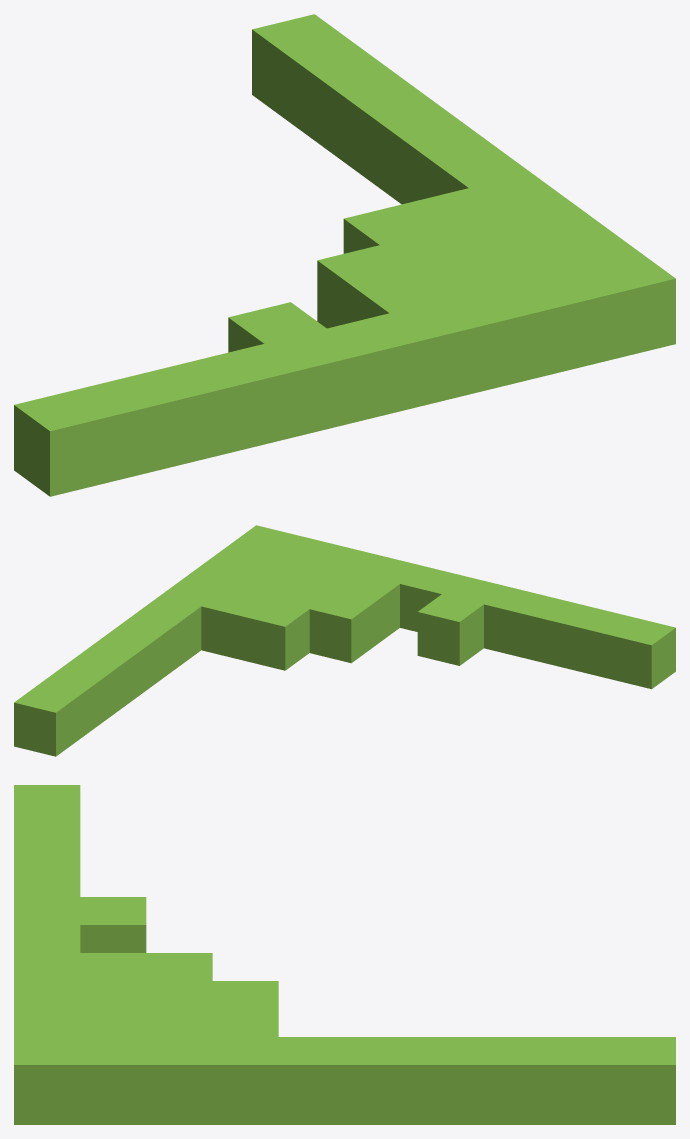
File: x_zem_0_49_1_rmstrd.fbx
3 renders of one model, top to bottom at view 1: azimuth 30°, elevation 25°; view 2: azimuth 150°, elevation 25°; view 3: azimuth 270°, elevation 25°, orthographic. The views are drawn at different scales.
Visible parts, largest first — view 1: x_zem_0_49_1_rmstrd1; view 2: x_zem_0_49_1_rmstrd1; view 3: x_zem_0_49_1_rmstrd1.
Boxes of the visible parts, x1,y1,x2,y2 form: x_zem_0_49_1_rmstrd1: (14, 14, 675, 496); x_zem_0_49_1_rmstrd1: (14, 525, 675, 756); x_zem_0_49_1_rmstrd1: (14, 785, 675, 1124).
Size of the model in its own units: 10 by 1 by 10.
